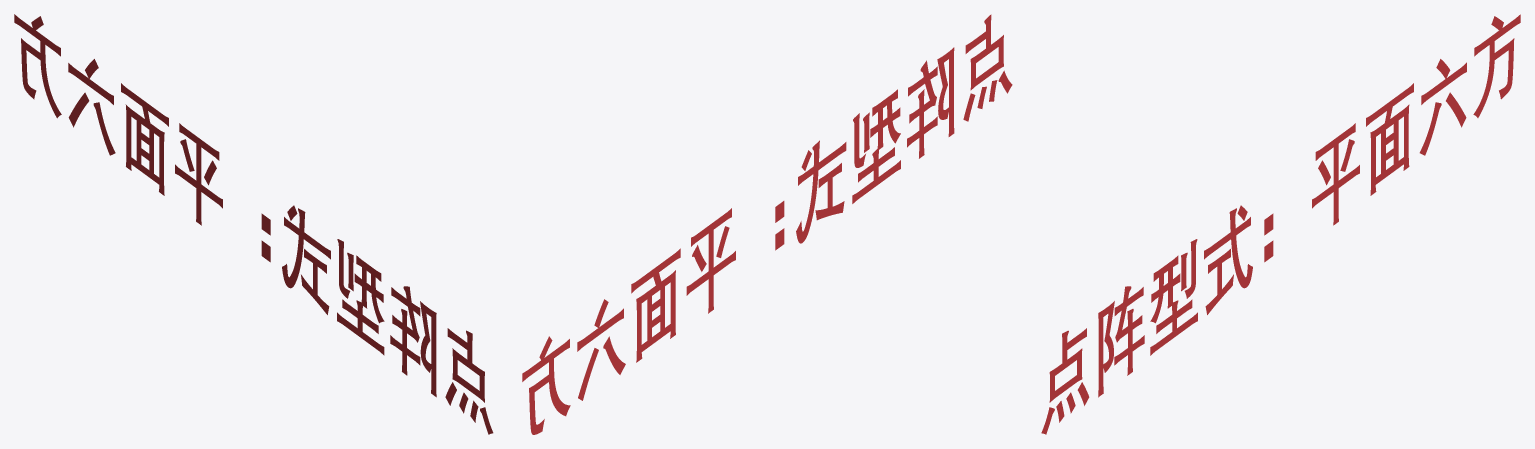
Rendered from d点阵形式.fbx.
The picture shows the model from 3 angles, left to right: view 1: azimuth 30°, elevation 25°; view 2: azimuth 150°, elevation 25°; view 3: azimuth 330°, elevation 25°; orthographic projection. The views are drawn at different scales.
Parts seen in each view (by area): view 1: Text.001; view 2: Text.001; view 3: Text.001.
Part boxes in pixels (x1,y1,x2,y2): Text.001: (14,14,493,434); Text.001: (522,14,1012,434); Text.001: (1041,14,1520,434).
Bounding box in the file's own units: 0.1671 × 77.3 × 731.
